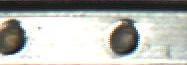joints: (106, 17, 141, 56), (0, 16, 29, 55)
